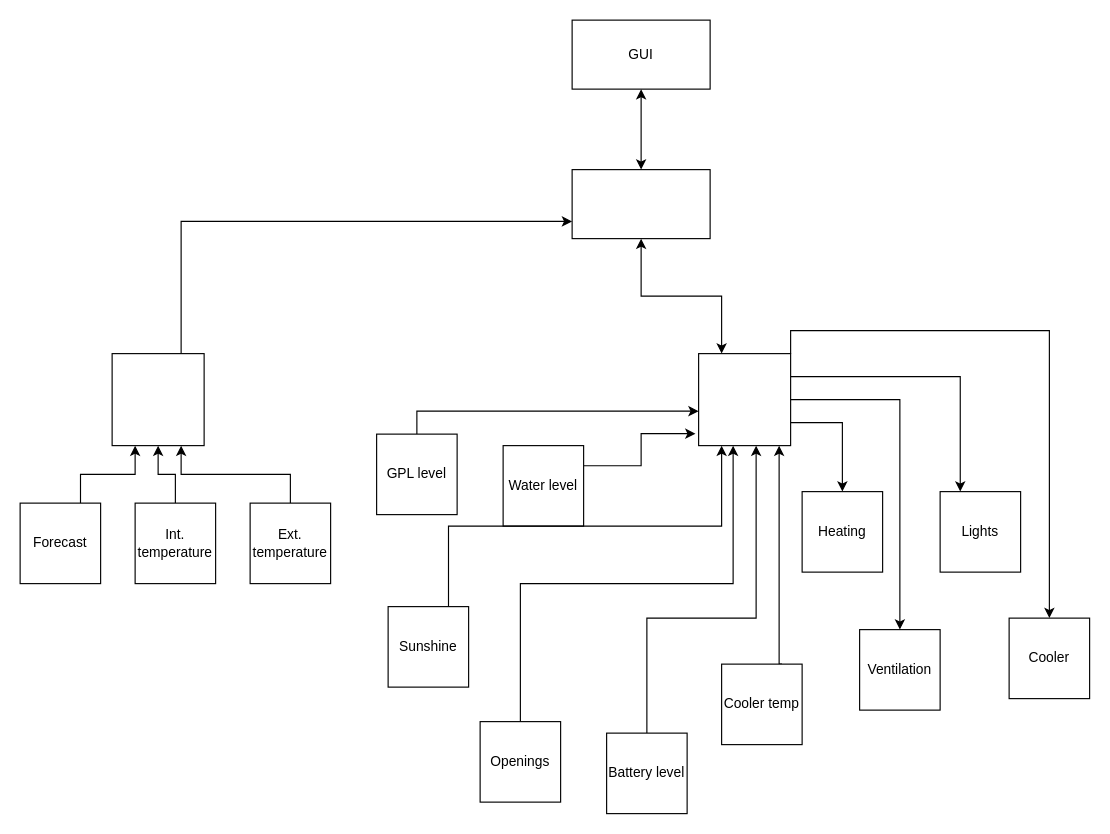
Some shapes in this 1110 by 834 pixel diagram are drawn without their labels. Here are the shapes that lost their labels. From the top down, the centre of each, then its label:
the point at 640,203: HUB
the point at 157,399: Meteo
the point at 744,399: Gear
